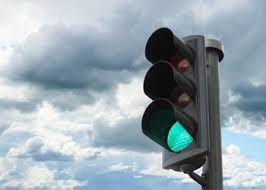green: (143, 27, 213, 171), (155, 34, 204, 159), (161, 41, 198, 153)
